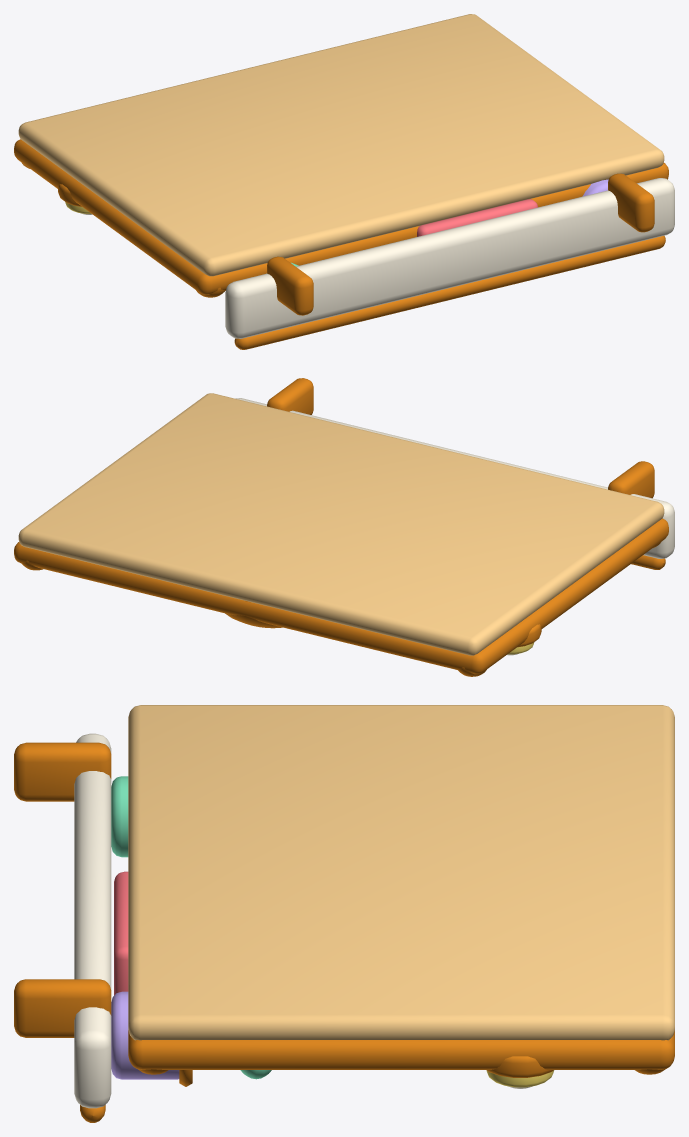
The model's file is BathroomWallMirror_Premium.fbx.
3 renders of one model, top to bottom at view 1: azimuth 30°, elevation 25°; view 2: azimuth 150°, elevation 25°; view 3: azimuth 270°, elevation 25°, orthographic. The views are drawn at different scales.
Parts seen in each view (by area): view 1: BathroomWallMirror; view 2: BathroomWallMirror; view 3: BathroomWallMirror.
Part boxes in pixels (x1=…): BathroomWallMirror: x1=14, y1=14, x2=674, y2=349; BathroomWallMirror: x1=14, y1=378, x2=674, y2=676; BathroomWallMirror: x1=14, y1=705, x2=674, y2=1122.
Bounding box in the file's own units: 0.9184 × 0.1536 × 0.78.
